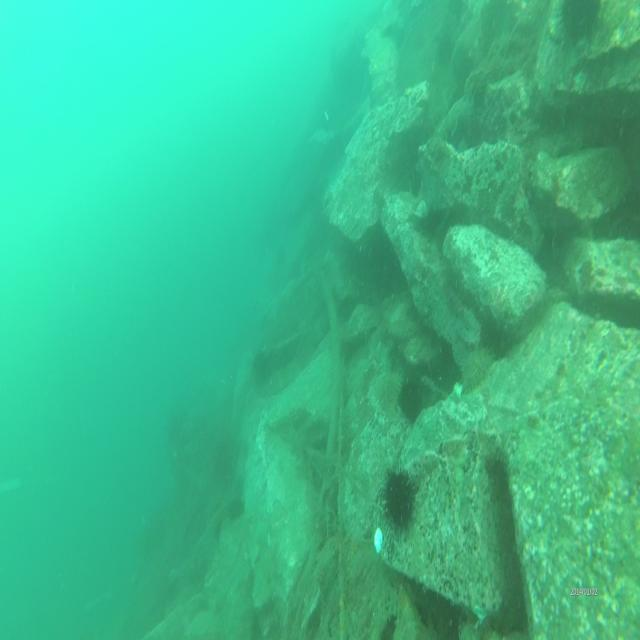echinus: (377, 464, 417, 534), (555, 0, 604, 52), (398, 375, 421, 421), (228, 493, 246, 528)
holothurian: (461, 335, 495, 391)
